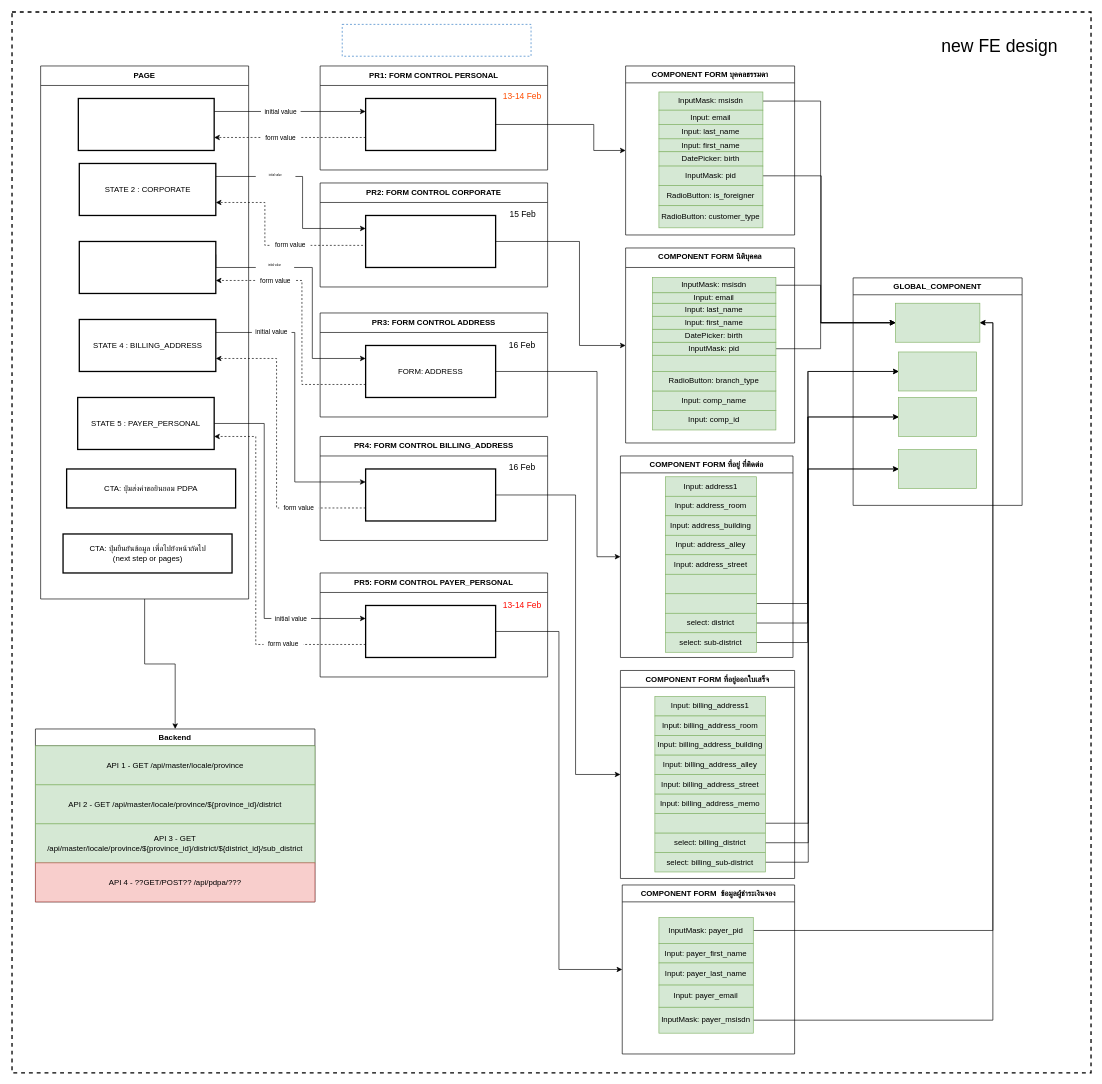
The diagram is 1102 pixels wide and 1084 high, and some of its shapes have lost their labels. Here are the shapes that lost their labels. From the top down, the centre of each, then its label:
At pixel 436 40: "13 - 18 Feb - 13-16 Feb, Fix PR. - 17-18 Feb, Reviewer.".
At pixel 145 124: "STATE 1 : PERSONAL".
At pixel 430 124: "FORM: PERSONAL".
At pixel 430 241: "FORM: CORPORATE".
At pixel 147 267: "STATE 3 : ADDRESS".
At pixel 937 322: "input format with mask".
At pixel 714 363: "Input: branch_name".
At pixel 937 371: "select province".
At pixel 937 416: "select district".
At pixel 937 468: "select sub-district".
At pixel 430 494: "FORM: BILLING_ADDRESS".
At pixel 710 584: "Input: address_memo".
At pixel 710 603: "select: province".
At pixel 430 631: "FORM: PAYER_PERSONAL".
At pixel 709 823: "select: billing_province".
